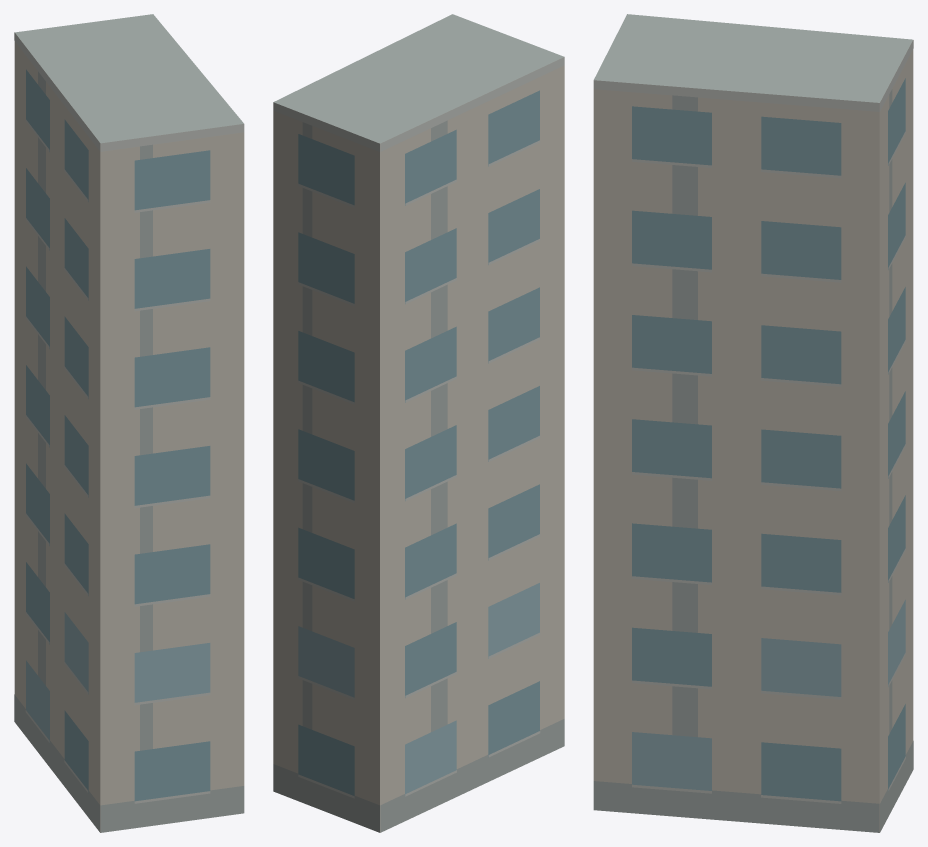
File: survey-upis-32670288.glb
3 renders of one model, left to right at view 1: azimuth 30°, elevation 25°; view 2: azimuth 150°, elevation 25°; view 3: azimuth 270°, elevation 25°, orthographic. The views are drawn at different scales.
Visible parts, largest first — view 1: survey-upis-32670288.tmp; view 2: survey-upis-32670288.tmp; view 3: survey-upis-32670288.tmp.
Part boxes in pixels (bbox=[...]): survey-upis-32670288.tmp: bbox=[14, 14, 244, 832]; survey-upis-32670288.tmp: bbox=[273, 14, 564, 832]; survey-upis-32670288.tmp: bbox=[593, 14, 913, 832].
Size of the model in its own units: 5.21 by 19.9 by 7.91.
